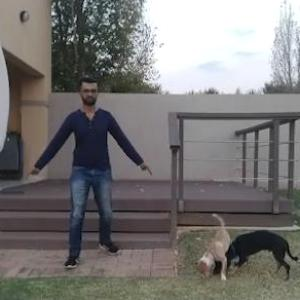land: (10, 80, 151, 273)
